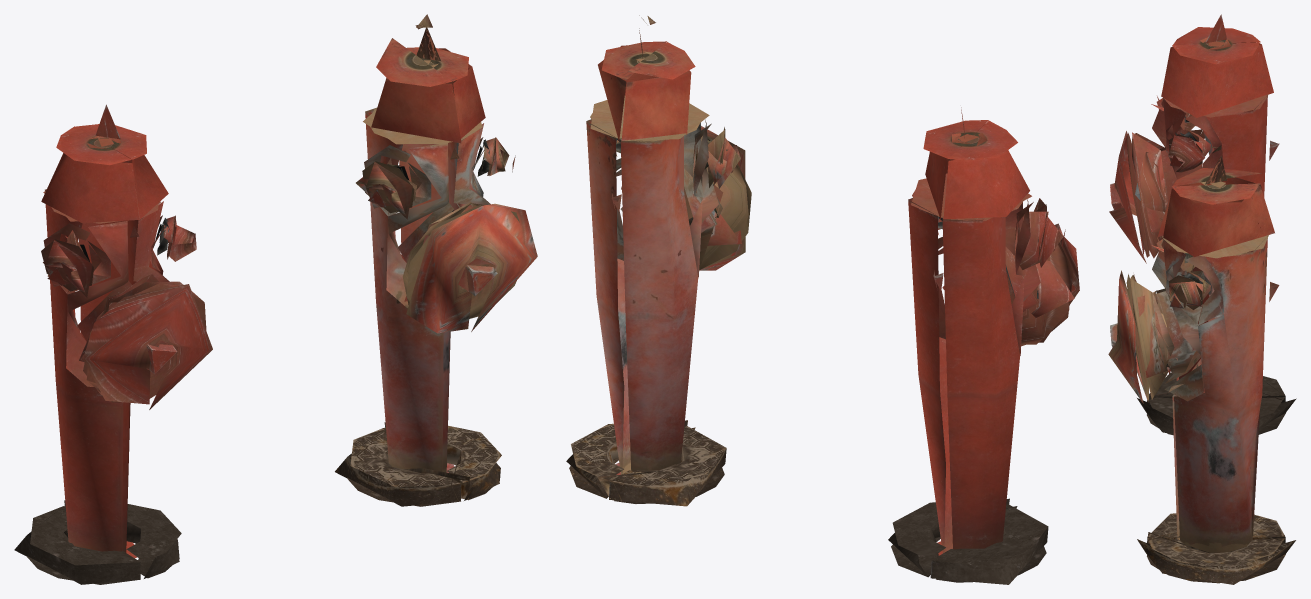
File: hydrant.glb
The picture shows the model from 3 angles, left to right: view 1: azimuth 30°, elevation 25°; view 2: azimuth 150°, elevation 25°; view 3: azimuth 270°, elevation 25°; orthographic projection. The views are drawn at different scales.
Parts seen in each view (by area): view 1: fire_hydrant; view 2: fire_hydrant; view 3: fire_hydrant.
Boxes of the visible parts, x1,y1,x2,y2 form: fire_hydrant: (14,14,537,584); fire_hydrant: (566,15,1079,584); fire_hydrant: (1108,14,1296,584).
Size of the model in its own units: 0.876 by 0.8176 by 0.3382.
Materials: 2 (2 with a texture image).
